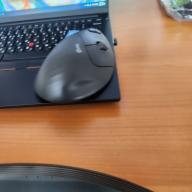Mouse: (27, 21, 134, 107)
